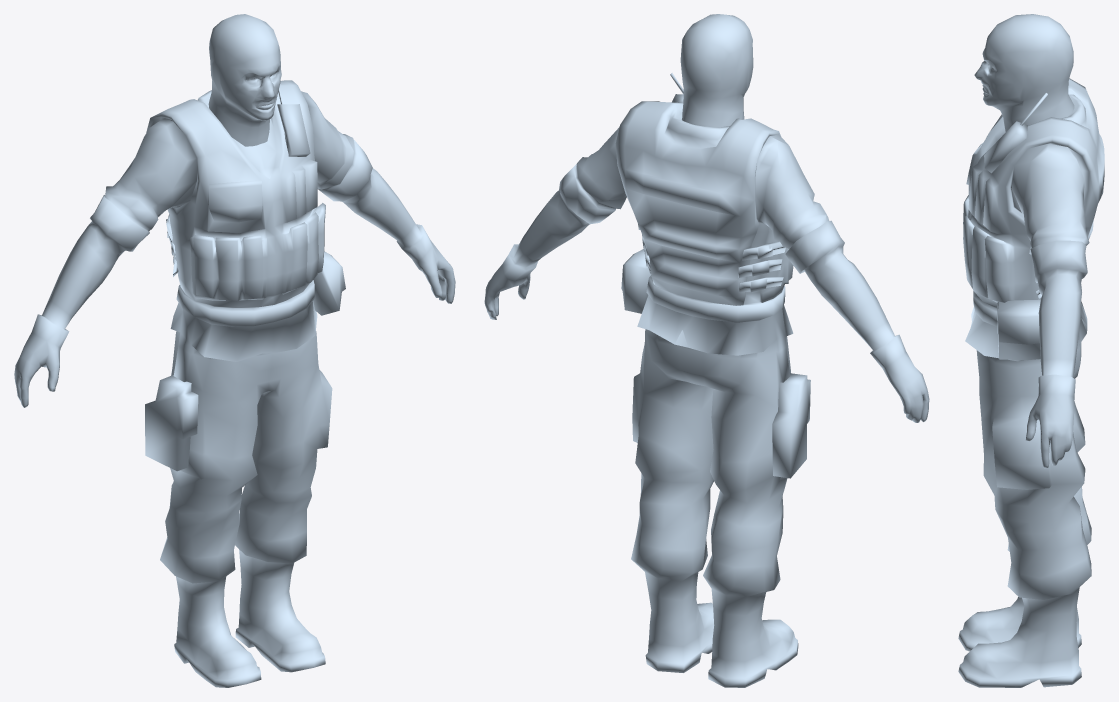
Rendered from t_phoenix.fbx.
3 renders of one model, left to right at view 1: azimuth 30°, elevation 25°; view 2: azimuth 150°, elevation 25°; view 3: azimuth 270°, elevation 25°, orthographic.
Parts seen in each view (by area): view 1: t_phoenix_reference; view 2: t_phoenix_reference; view 3: t_phoenix_reference.
Part boxes in pixels (<box>): t_phoenix_reference: <box>14,14,455,687</box>; t_phoenix_reference: <box>484,14,929,687</box>; t_phoenix_reference: <box>958,14,1104,687</box>.
Size of the model in its own units: 5564 by 7792 by 1606.
